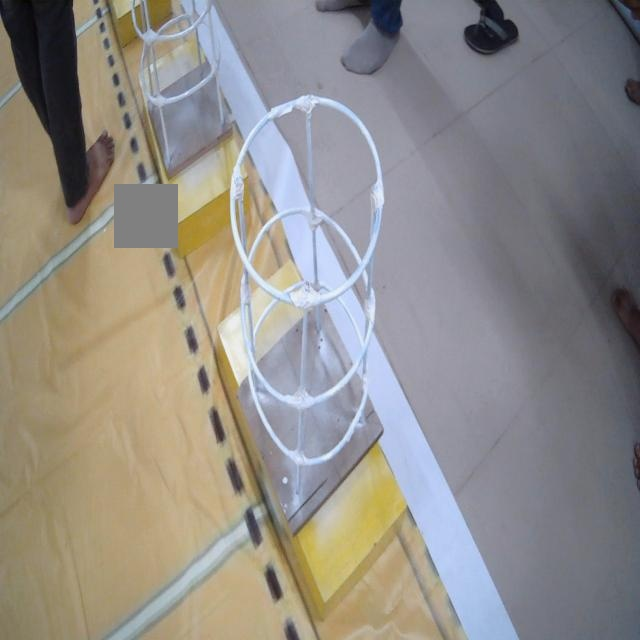silo: (236, 90, 386, 531), (129, 0, 233, 139)
